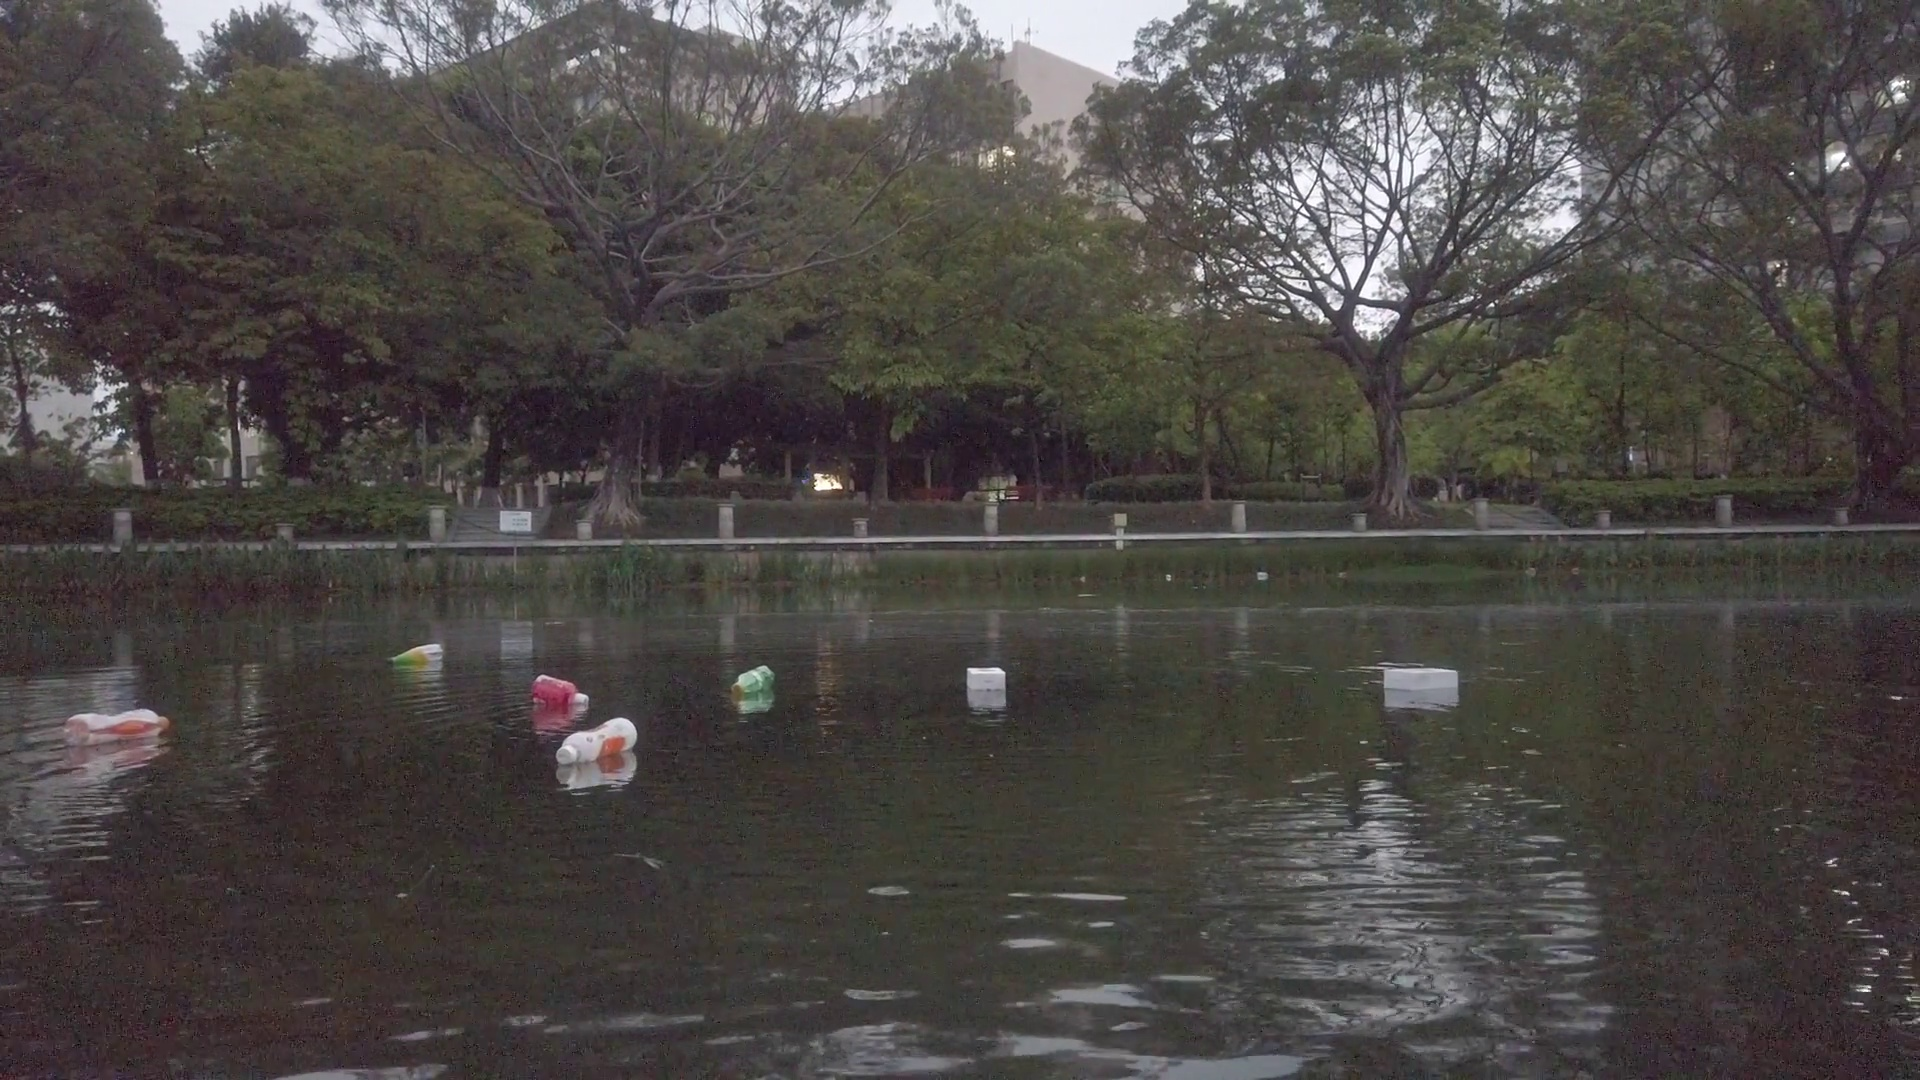bottle: (555, 720, 638, 767), (61, 711, 170, 744), (529, 671, 592, 709), (386, 641, 442, 667), (733, 665, 777, 695)
carton: (1379, 669, 1460, 690), (964, 667, 1007, 691), (1255, 568, 1270, 580)
